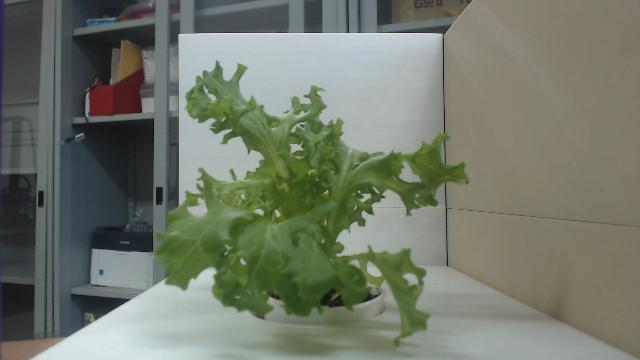Harvest Stage: (150, 58, 472, 346)
